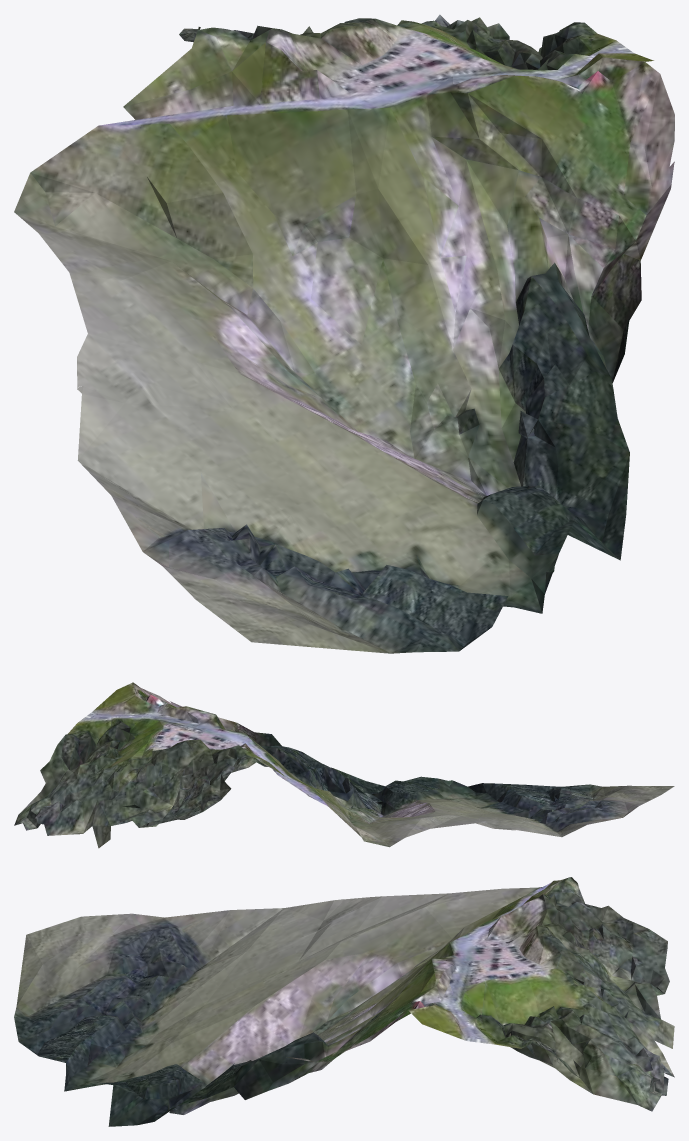
The picture shows the model from 3 angles, top to bottom: view 1: azimuth 30°, elevation 25°; view 2: azimuth 150°, elevation 25°; view 3: azimuth 270°, elevation 25°; orthographic projection. The views are drawn at different scales.
Parts seen in each view (by area): view 1: obj_0; view 2: obj_0; view 3: obj_0.
Boxes of the visible parts, x1,y1,x2,y2 form: obj_0: (14,14,674,653); obj_0: (14,682,674,848); obj_0: (14,877,674,1126).
Size of the model in its own units: 7.56 by 3.17 by 8.57.
Materials: 1 (1 with a texture image).
